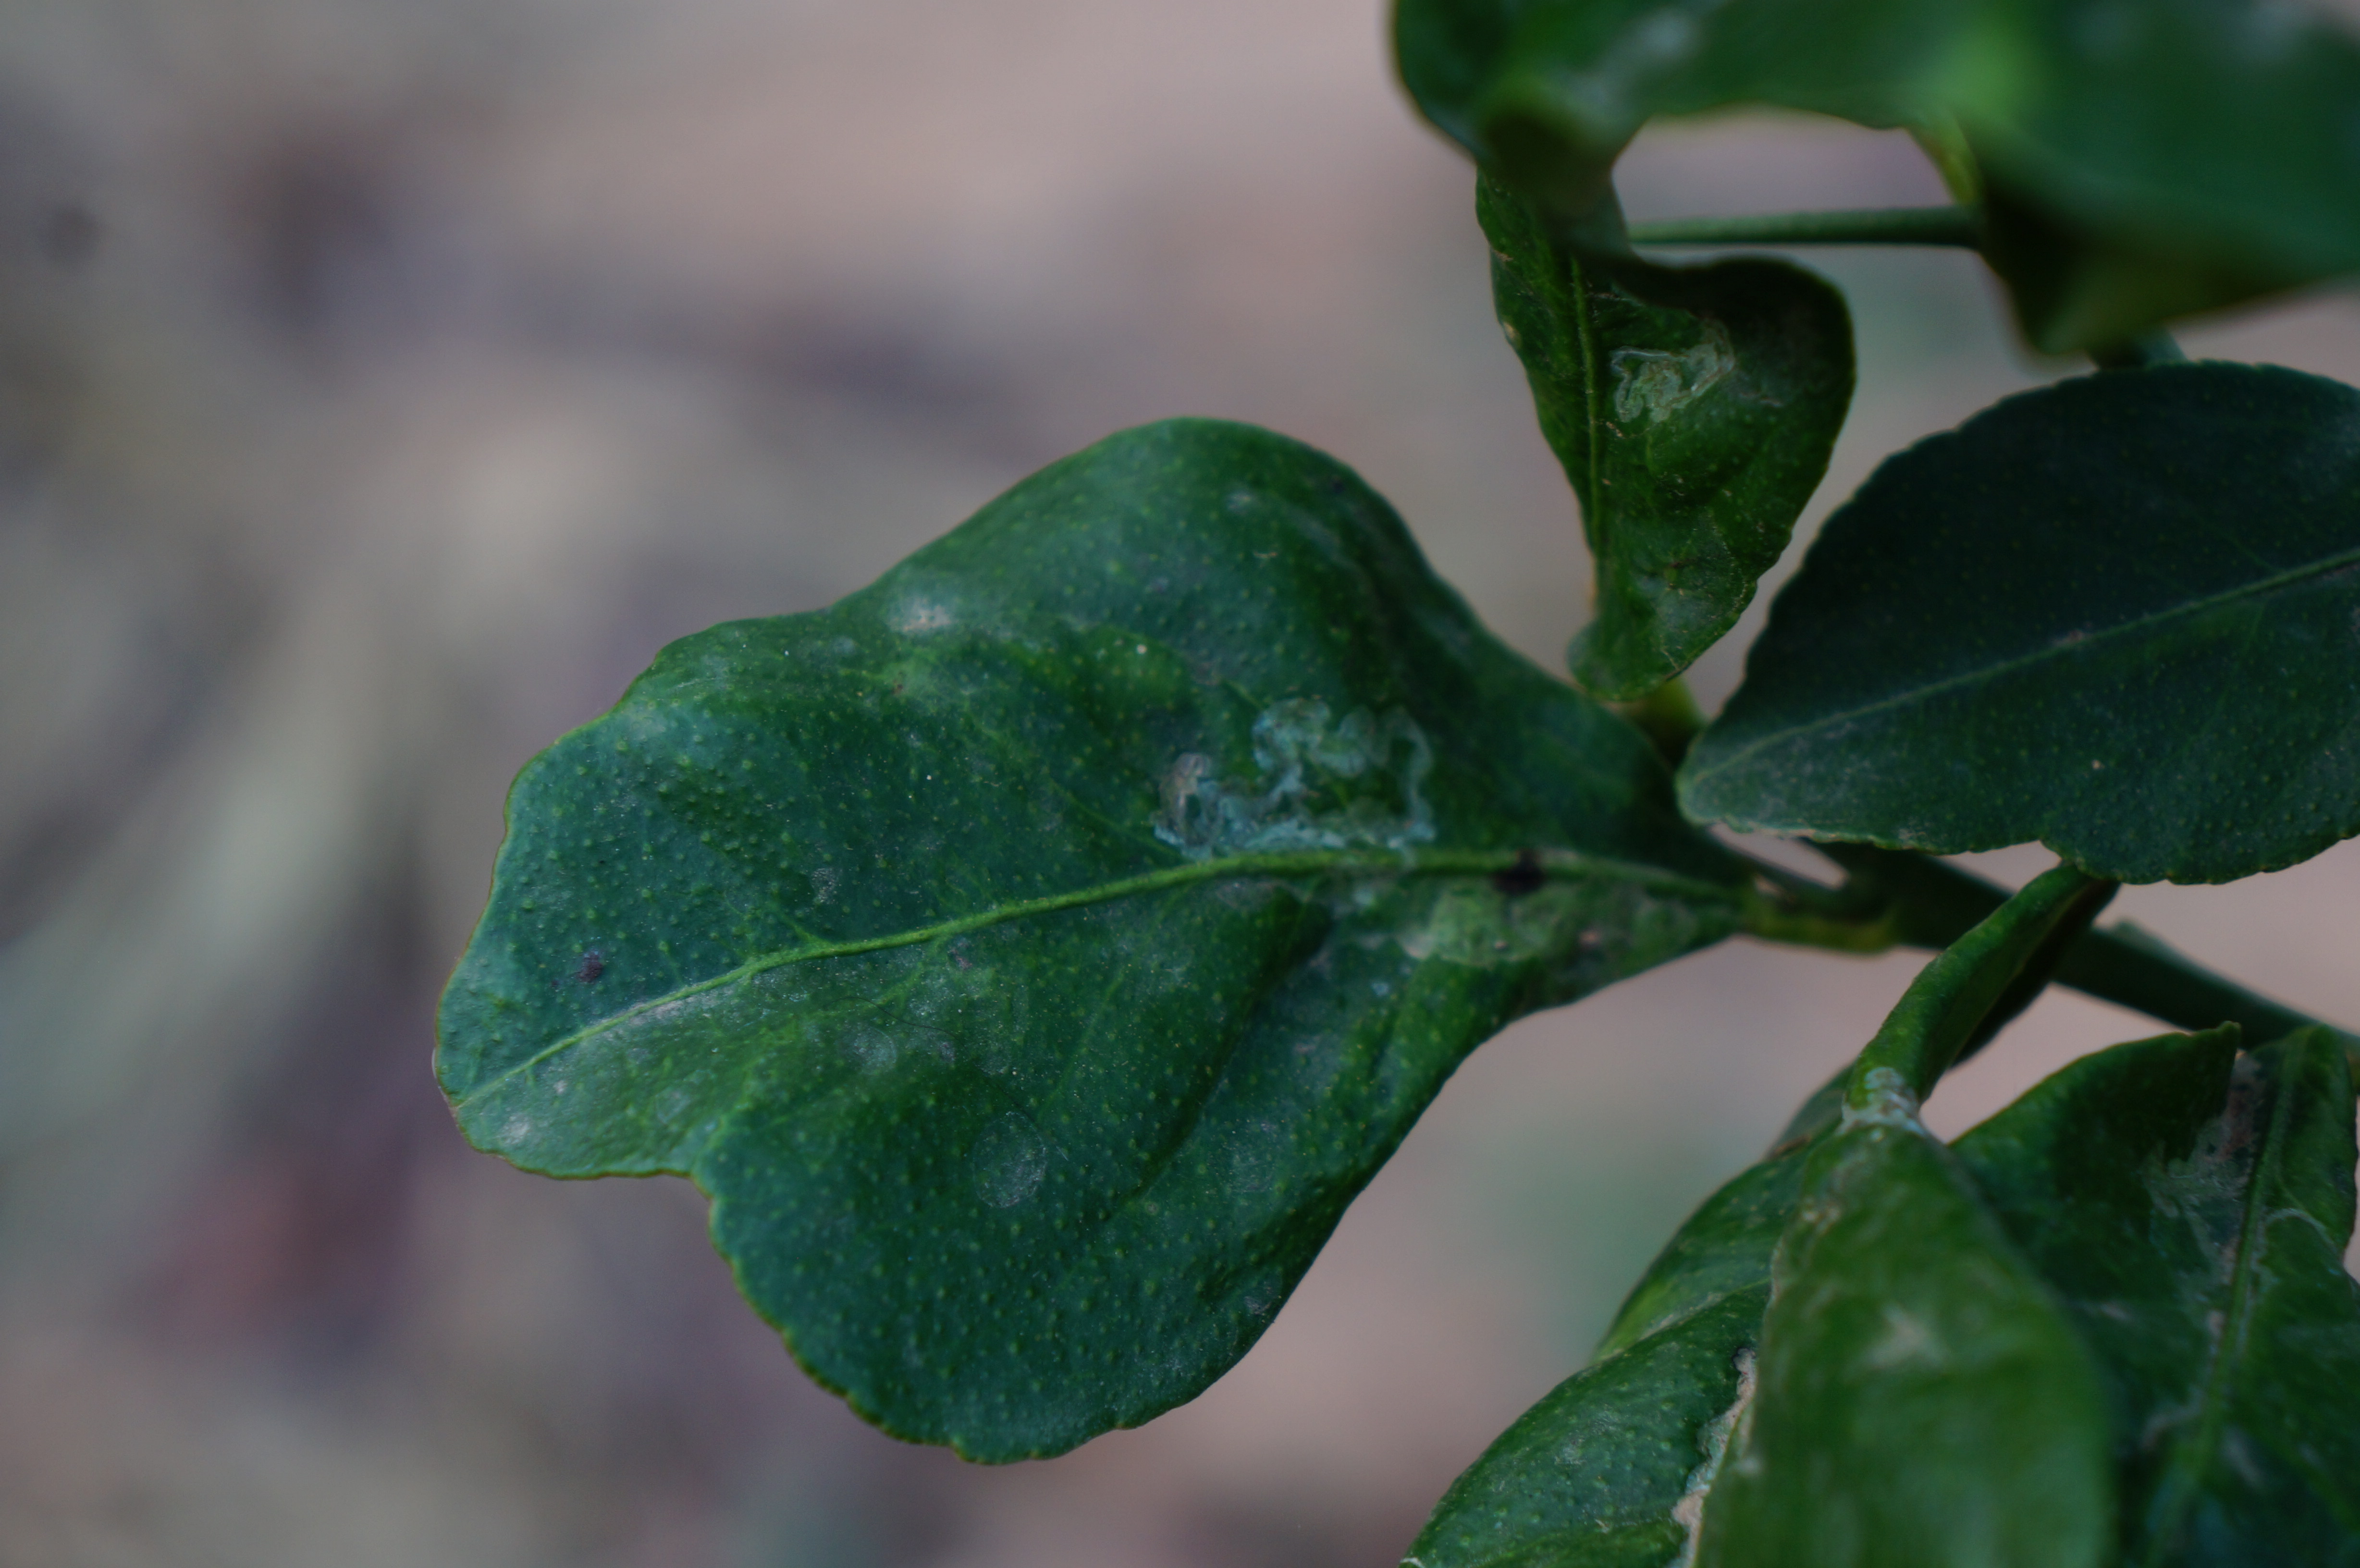damage: (1142, 677, 1494, 894), (1599, 306, 1742, 429)
